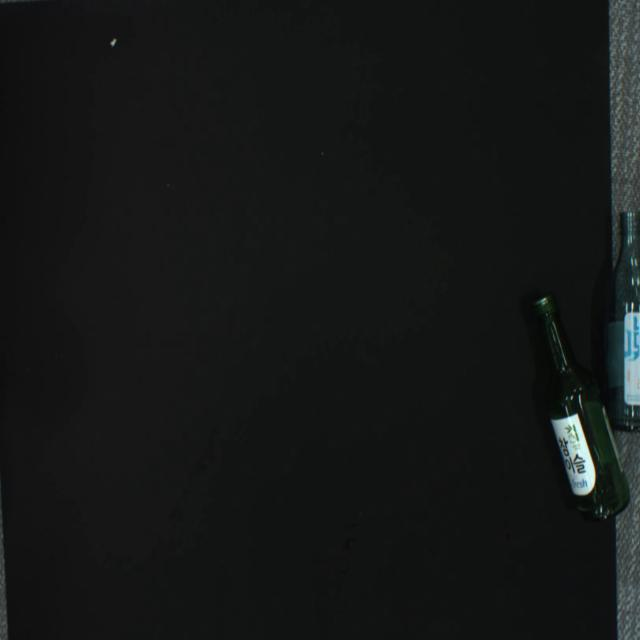soju-bottle: (535, 295, 631, 519), (605, 212, 640, 432)
